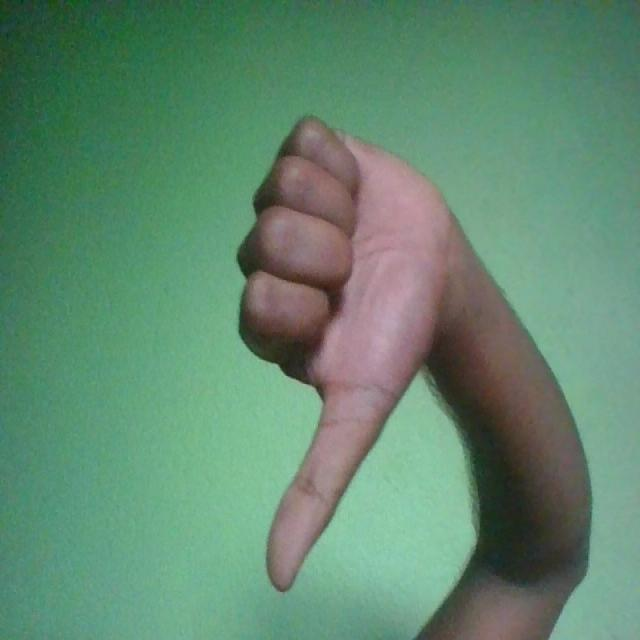Dislike: (237, 114, 459, 594)
